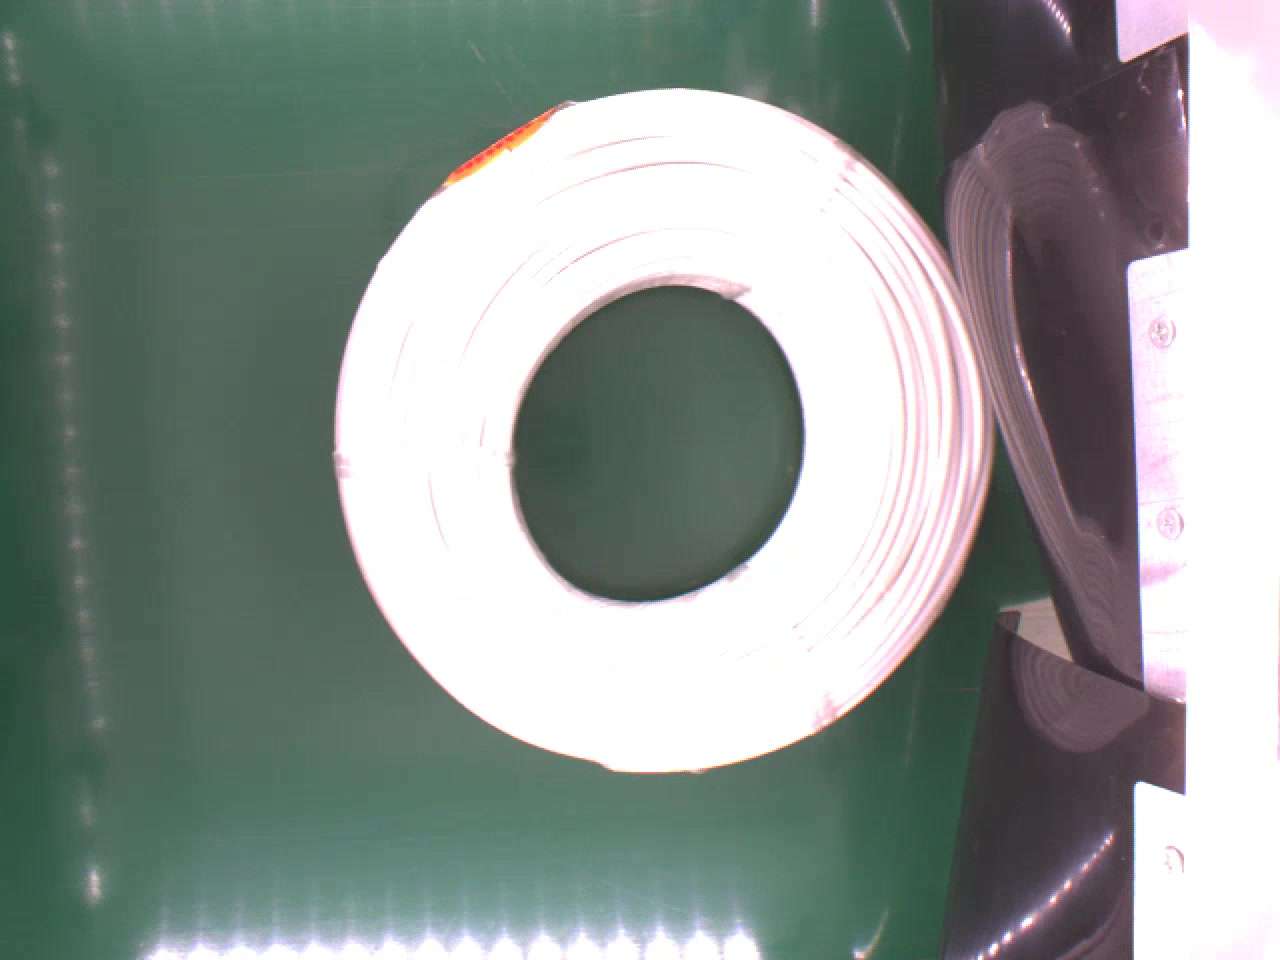white: (325, 75, 996, 783)
